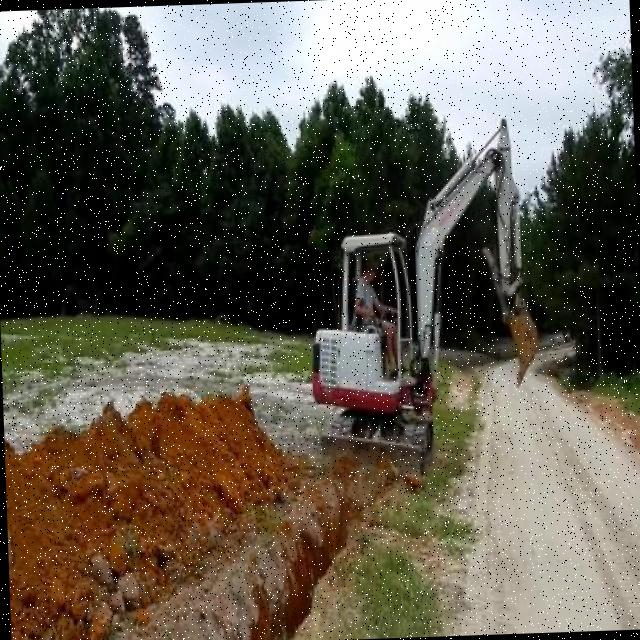Excavator: (302, 116, 542, 482)
